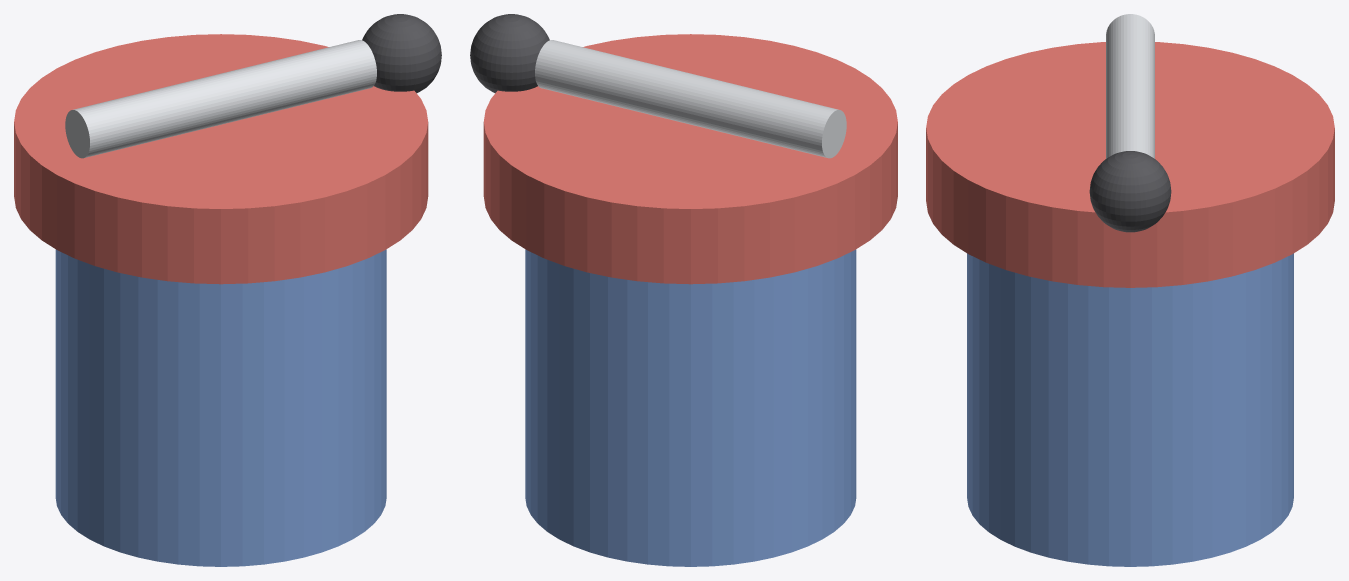
Rendered from drum.gltf.
The picture shows the model from 3 angles, left to right: view 1: azimuth 30°, elevation 25°; view 2: azimuth 150°, elevation 25°; view 3: azimuth 270°, elevation 25°; orthographic projection.
Visible parts, largest first — view 1: drum, lid, handle, knob; view 2: drum, lid, handle, knob; view 3: drum, lid, handle, knob.
Part boxes in pixels (left/top/right/bottom): drum: left=55, top=249, right=386, bottom=566; lid: left=14, top=34, right=428, bottom=284; handle: left=65, top=40, right=376, bottom=158; knob: left=362, top=14, right=441, bottom=93; drum: left=525, top=249, right=856, bottom=566; lid: left=483, top=34, right=897, bottom=284; handle: left=535, top=40, right=846, bottom=158; knob: left=470, top=14, right=549, bottom=93; drum: left=967, top=253, right=1293, bottom=566; lid: left=926, top=42, right=1334, bottom=287; handle: left=1106, top=14, right=1154, bottom=158; knob: left=1089, top=151, right=1171, bottom=232.
Size of the model in its own units: 1.38 by 1.45 by 1.25.
